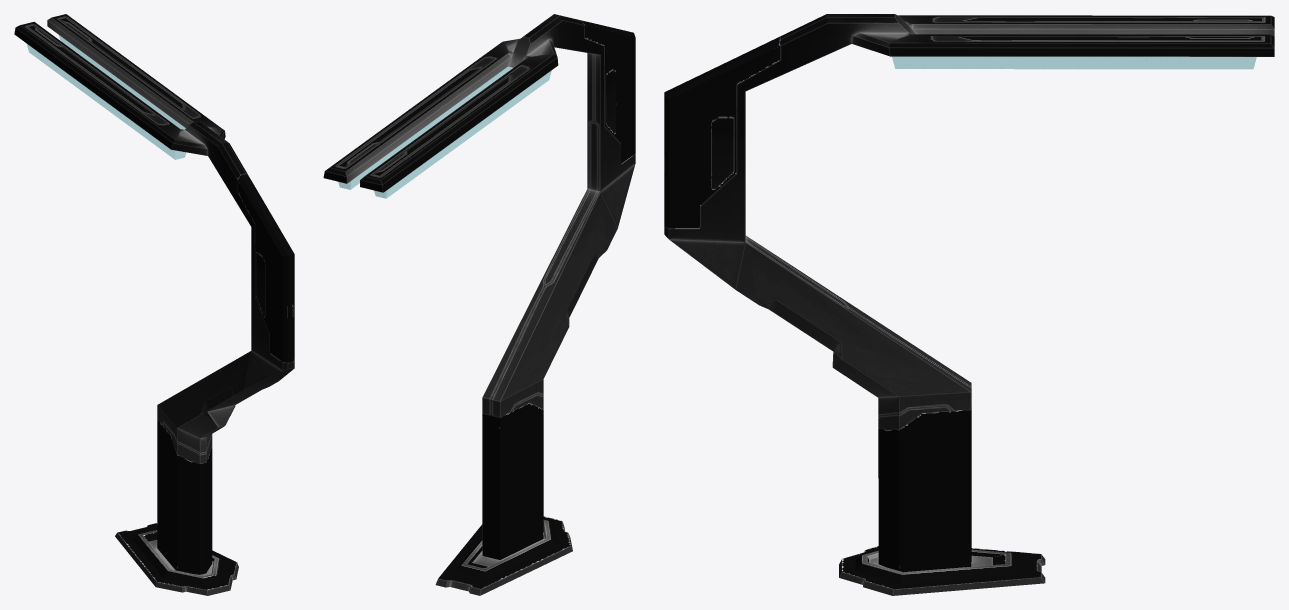
Rendered from propLampPost.glb.
3 renders of one model, left to right at view 1: azimuth 30°, elevation 25°; view 2: azimuth 150°, elevation 25°; view 3: azimuth 270°, elevation 25°, orthographic. The views are drawn at different scales.
Visible parts, largest first — view 1: propLampPost, PF_LampPost (2).016_M_Emissive_Engineering.017_0; view 2: propLampPost, PF_LampPost (2).016_M_Emissive_Engineering.017_0; view 3: propLampPost, PF_LampPost (2).016_M_Emissive_Engineering.017_0.
Part boxes in pixels (x1=…): propLampPost: x1=14, y1=14, x2=294, y2=595; PF_LampPost (2).016_M_Emissive_Engineering.017_0: x1=27, y1=35, x2=186, y2=159; propLampPost: x1=323, y1=14, x2=635, y2=595; PF_LampPost (2).016_M_Emissive_Engineering.017_0: x1=338, y1=66, x2=551, y2=198; propLampPost: x1=664, y1=14, x2=1274, y2=595; PF_LampPost (2).016_M_Emissive_Engineering.017_0: x1=892, y1=56, x2=1256, y2=69.
Size of the model in its own units: 1.53 by 8 by 7.97.
2 materials, 2 textured.
